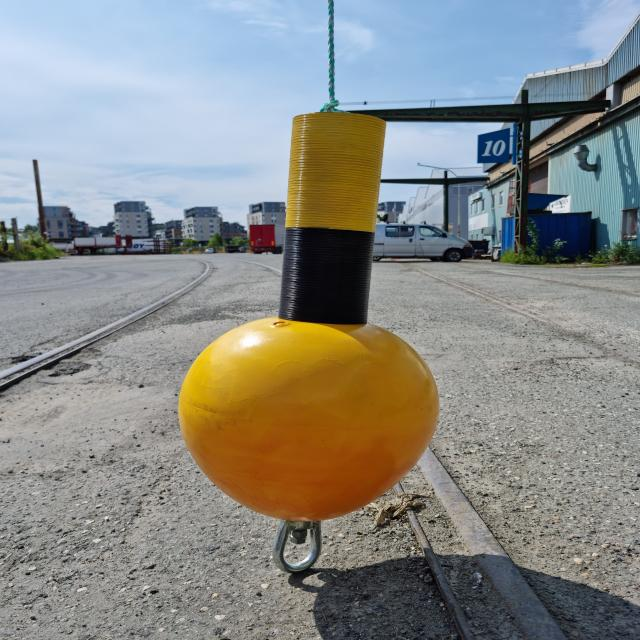west: (176, 112, 441, 520)
